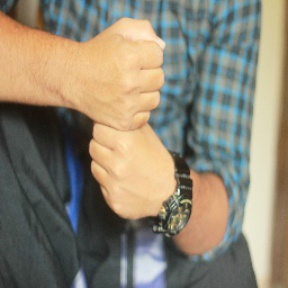G: (80, 14, 185, 219)
